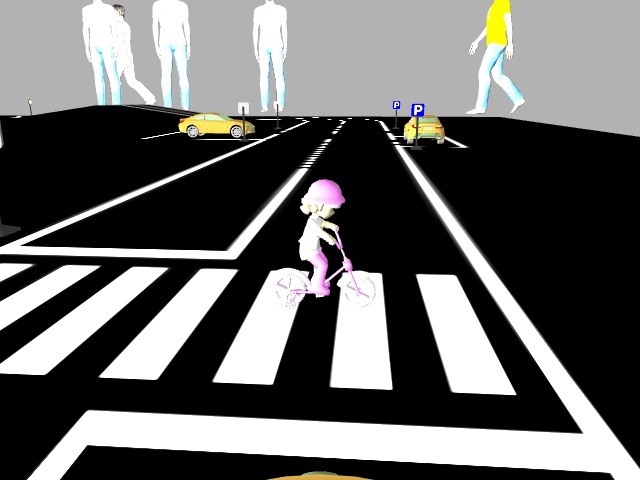Parking: (408, 102, 424, 115), (390, 98, 402, 108)
Pedestrian: (268, 174, 380, 310)
